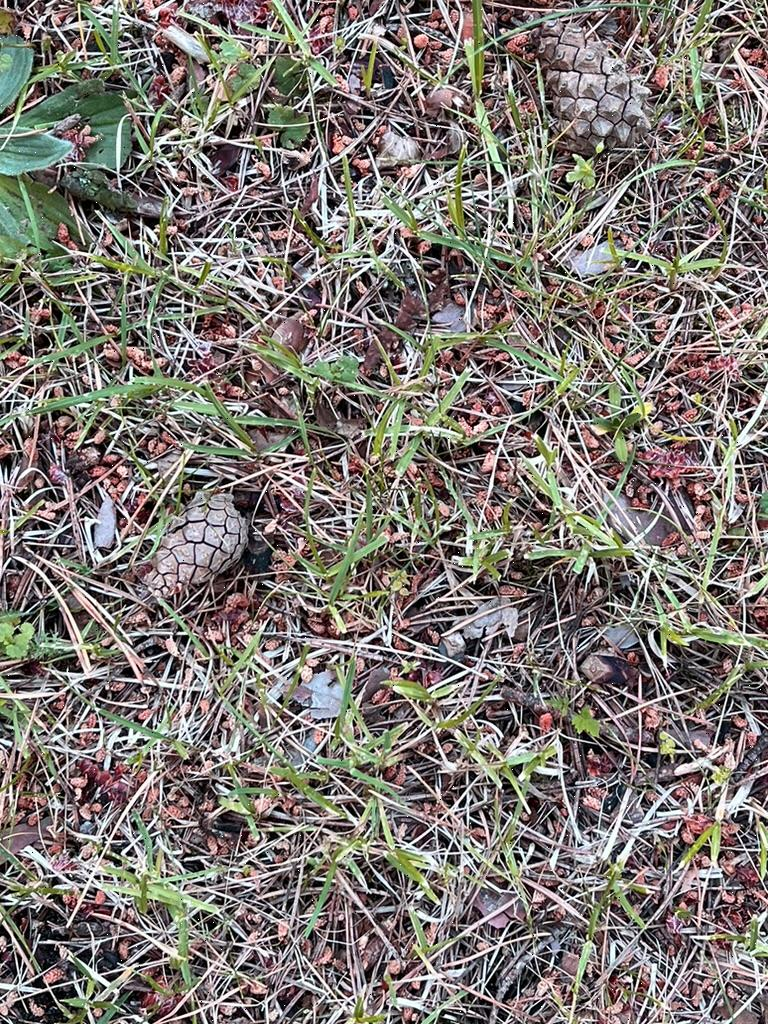pine: (508, 3, 668, 170), (146, 476, 254, 613)
